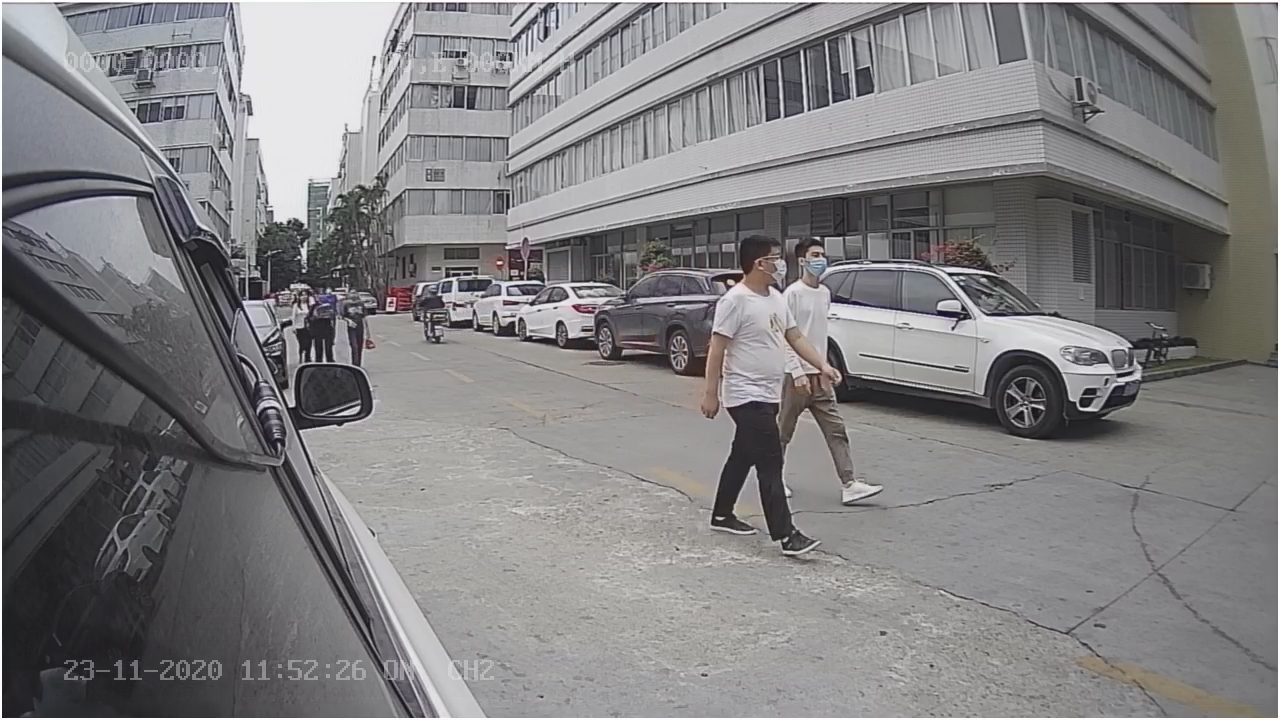person: (697, 234, 804, 559)
